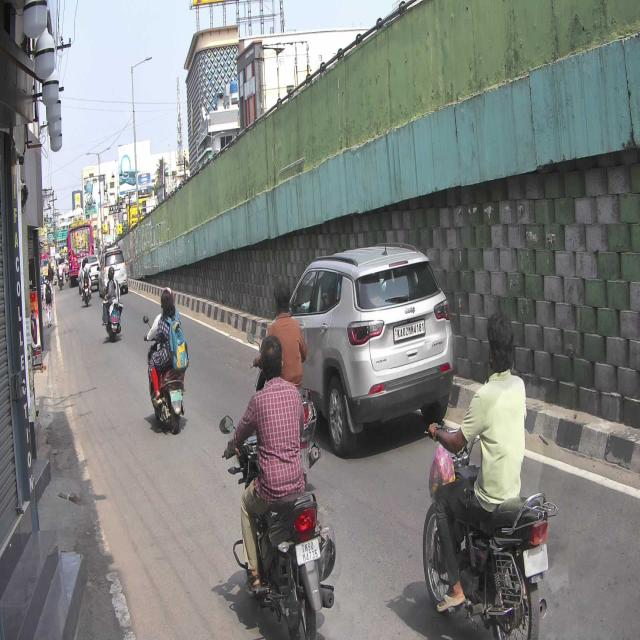single_rider: (420, 310, 555, 640), (224, 335, 336, 640)
